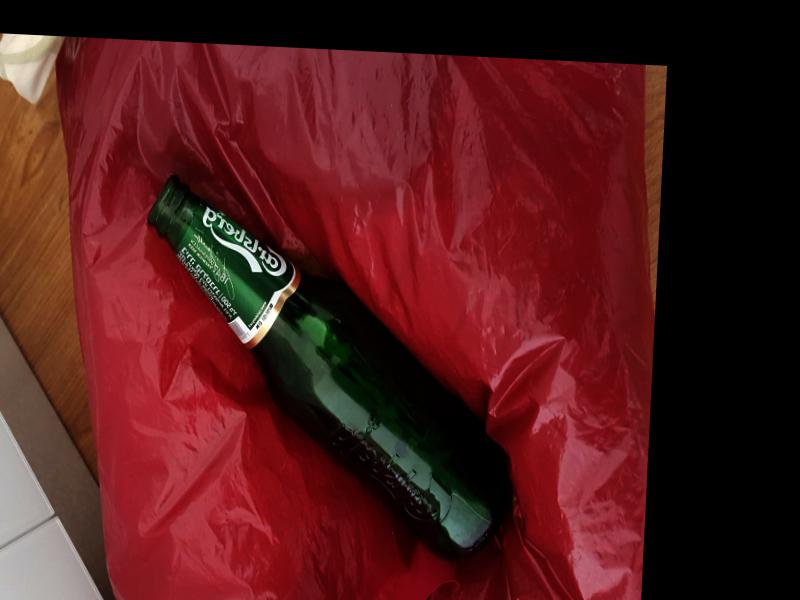Beer: (132, 173, 524, 558)
